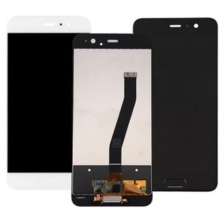phone: (3, 12, 93, 193), (130, 14, 220, 194), (67, 30, 157, 209)
